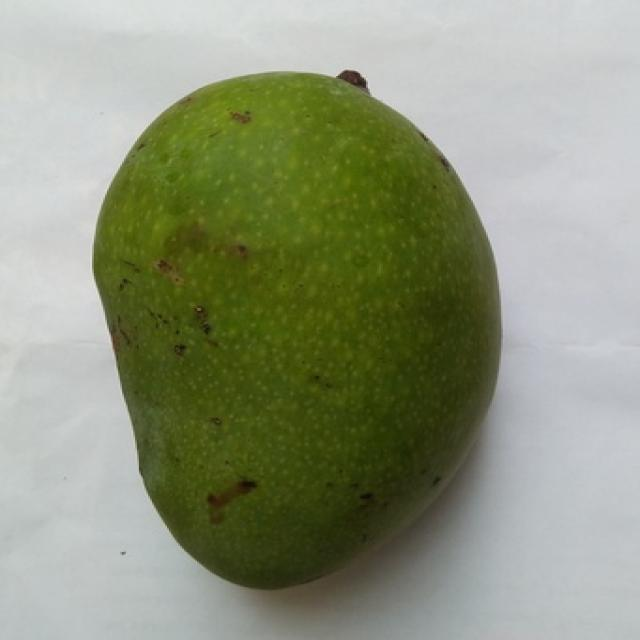Mango: (94, 71, 499, 588)
